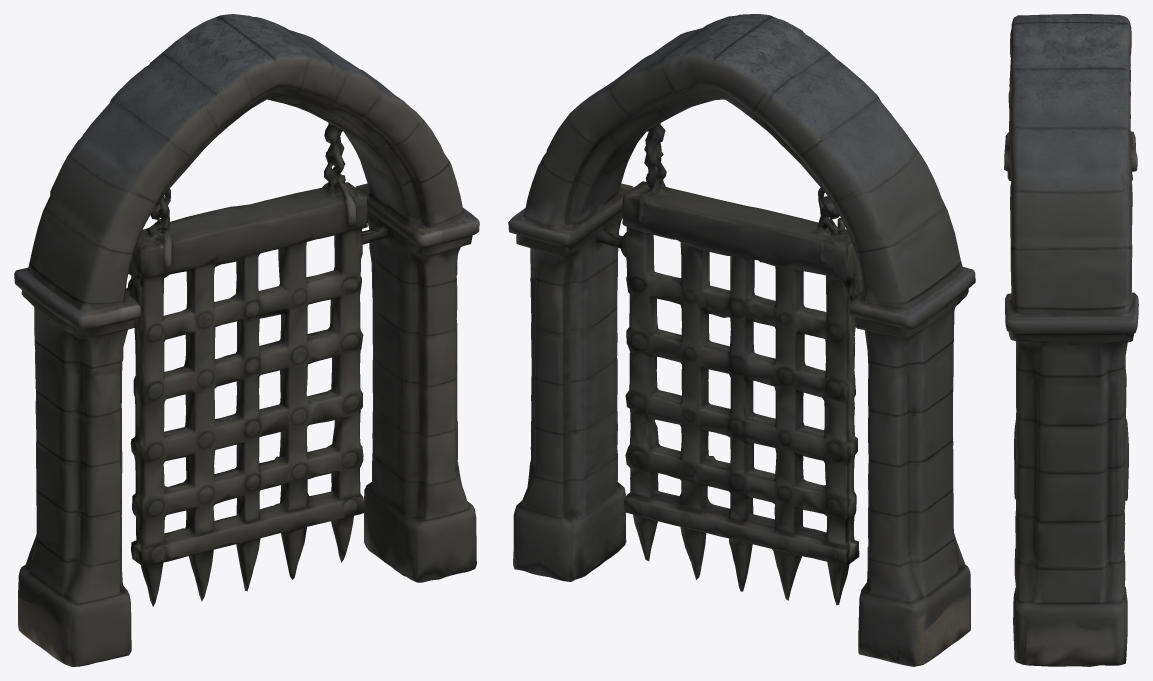
File: iron_gate_open.glb
3 renders of one model, left to right at view 1: azimuth 30°, elevation 25°; view 2: azimuth 150°, elevation 25°; view 3: azimuth 270°, elevation 25°, orthographic. The views are drawn at different scales.
Bounding box in the file's own units: 1.54 × 2 × 0.4469.
Materials: 1 (1 with a texture image).
